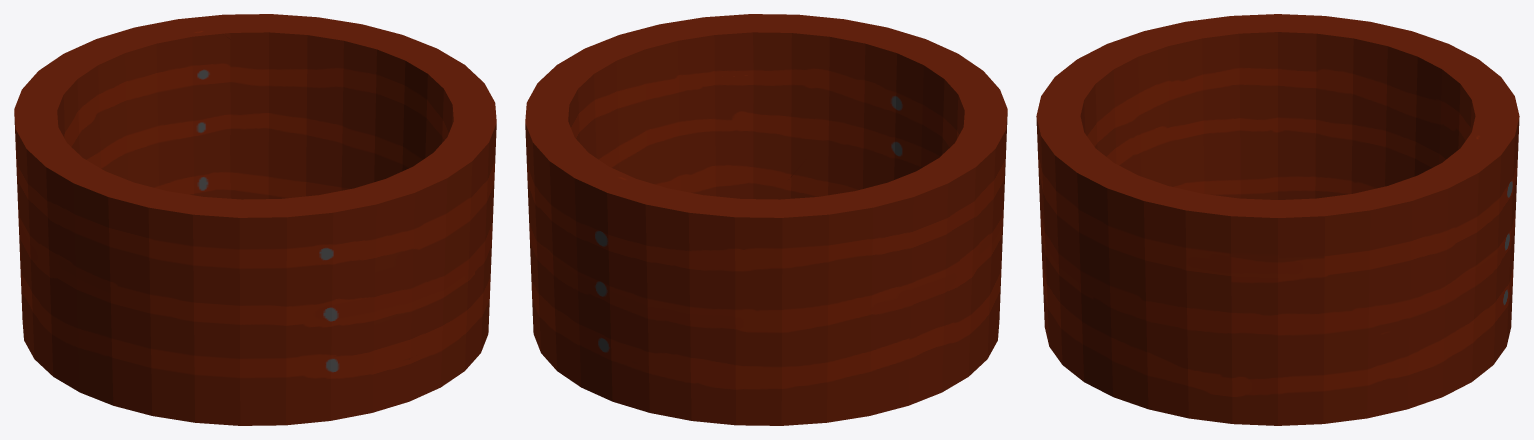
The model's file is unbuiltStorage.fbx.
3 views of the same model, side by side, from view 1: azimuth 30°, elevation 25°; view 2: azimuth 150°, elevation 25°; view 3: azimuth 270°, elevation 25° (orthographic).
Visible parts, largest first — view 1: Storage, Container_034, Container_047, Container_048, Container_063, Container_036, Container_070, Container_029, Container_054, Container_025, Container_052, Container_032 (+17 smaller); view 2: Storage, Container_053, Container_062, Container_030, Container_043, Container_045, Container_024, Container_069, Container_046, Container_044, Container_033, Container_056 (+18 smaller); view 3: Storage, Container_041, Container_048, Container_069, Container_031, Container_055, Container_043, Container_036, Container_051, Container_049, Container_042, Container_038 (+24 smaller).
Boxes of the visible parts, x1,y1,x2,y2 form: Storage: (14, 14, 496, 425); Container_034: (167, 302, 305, 425); Container_047: (131, 46, 228, 160); Container_048: (371, 48, 434, 156); Container_063: (184, 202, 275, 286); Container_036: (76, 284, 177, 406); Container_070: (47, 48, 142, 127); Container_029: (294, 309, 399, 410); Container_054: (279, 27, 376, 136); Container_025: (287, 138, 388, 197); Container_052: (198, 34, 277, 133); Container_032: (234, 125, 293, 199); Storage: (525, 14, 1007, 425); Container_053: (755, 15, 869, 158); Container_062: (681, 221, 818, 279); Container_030: (717, 312, 850, 425); Container_043: (698, 75, 807, 179); Container_045: (593, 66, 713, 167); Container_024: (573, 281, 649, 407); Container_069: (570, 22, 698, 111); Container_046: (678, 266, 827, 319); Container_044: (852, 83, 932, 178); Container_033: (632, 312, 716, 393); Container_056: (937, 168, 992, 271); Storage: (1036, 14, 1519, 425); Container_041: (1361, 256, 1480, 373); Container_048: (1257, 197, 1358, 313); Container_069: (1122, 182, 1261, 266); Container_031: (1283, 307, 1376, 425); Container_055: (1154, 52, 1232, 142); Container_043: (1053, 188, 1139, 324); Container_036: (1141, 127, 1266, 198); Container_051: (1098, 57, 1157, 165); Container_049: (1345, 203, 1404, 307); Container_042: (1259, 85, 1394, 189); Container_038: (1163, 286, 1316, 392).
Size of the model in its own units: 270 by 130 by 270.
1 material, 1 textured.
